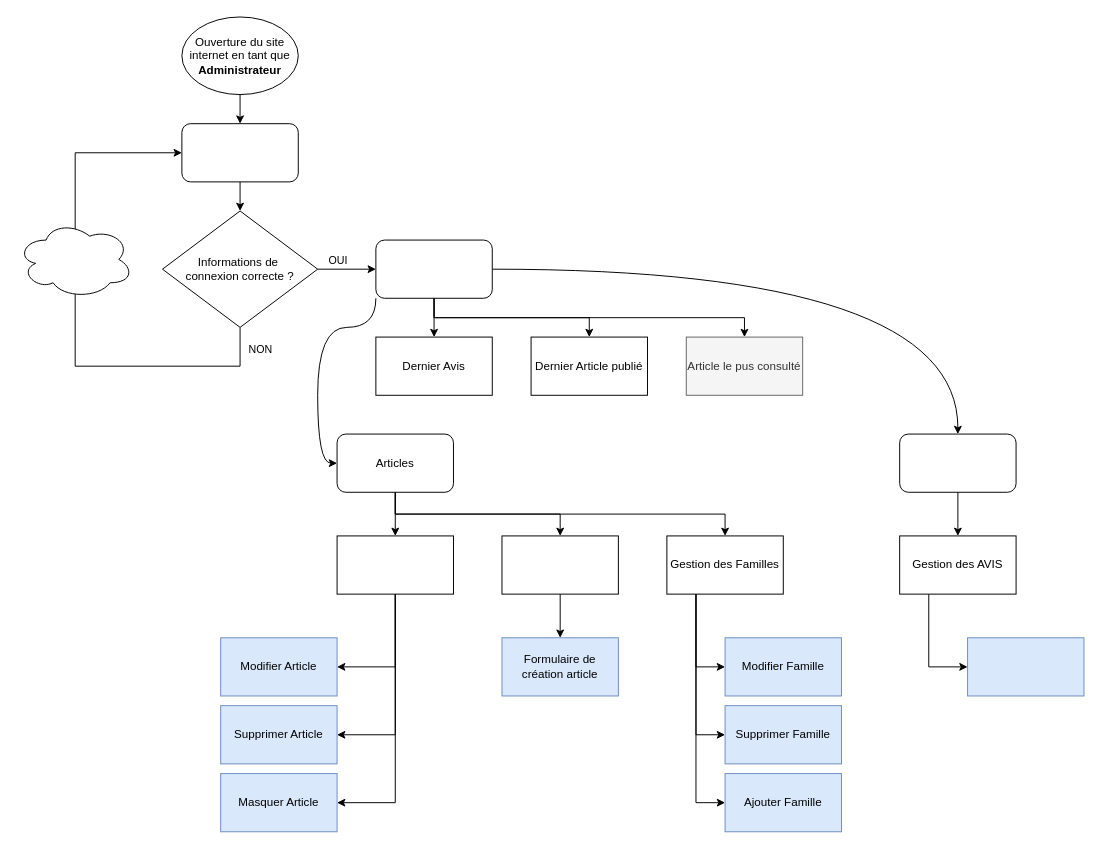
This 1101x849 diagram has some shape labels left out. The shapes that lost their labels are listed below. From the top down, each one's centre as x and y in pixels, then its label:
At point 239,152: "Page login".
At point 74,259: "MOT de passe ou ID incorrect".
At point 433,268: "Tableau de Bord".
At point 957,462: "Avis".
At point 394,564: "Consulter les articles".
At point 559,564: "Ajouter un article".
At point 1025,666: "Supprimer Avis".
